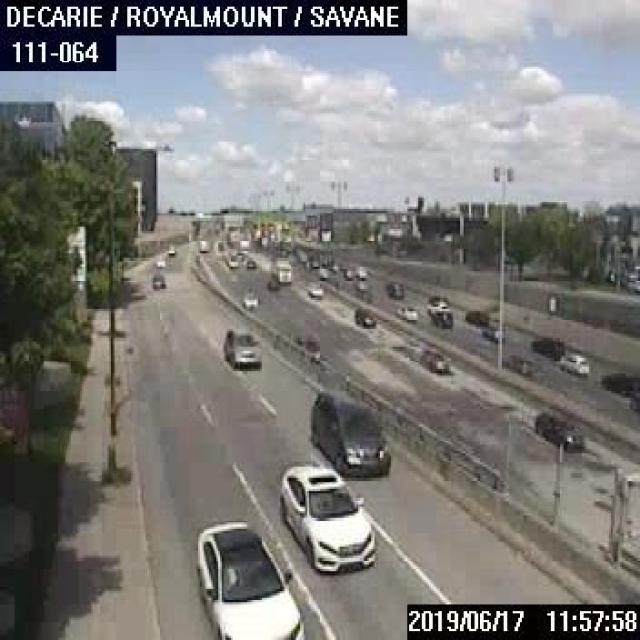vehicle: (191, 516, 307, 638), (277, 462, 373, 573), (307, 384, 391, 476), (529, 407, 582, 449), (222, 327, 262, 369), (598, 371, 638, 398), (416, 344, 451, 374), (292, 331, 324, 362), (530, 333, 564, 357), (500, 351, 536, 373), (558, 352, 589, 374), (351, 302, 376, 327), (393, 304, 418, 322), (430, 308, 452, 327), (427, 294, 448, 313), (463, 309, 486, 326), (481, 324, 504, 341), (240, 289, 260, 307), (273, 262, 291, 282), (383, 280, 403, 297), (304, 282, 324, 296), (150, 270, 165, 288), (352, 280, 369, 294), (354, 264, 366, 278), (242, 255, 256, 267), (197, 238, 207, 252), (342, 266, 352, 278), (316, 266, 327, 276), (155, 256, 164, 266), (166, 244, 174, 254)
